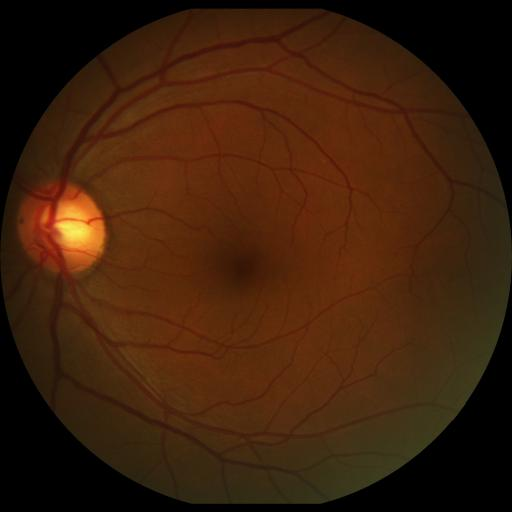Optic Cup: (44, 203, 91, 247)
Optic Disc: (17, 181, 106, 273)
